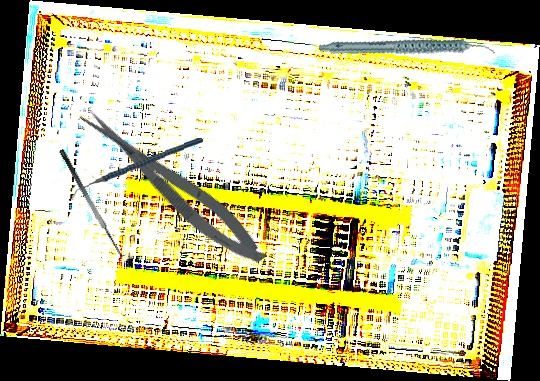Chopper: (67, 137, 206, 201)
Handpiece: (318, 8, 496, 91)
Micro Scissor: (74, 95, 274, 276)
Spatula Surgical: (58, 143, 131, 261)
